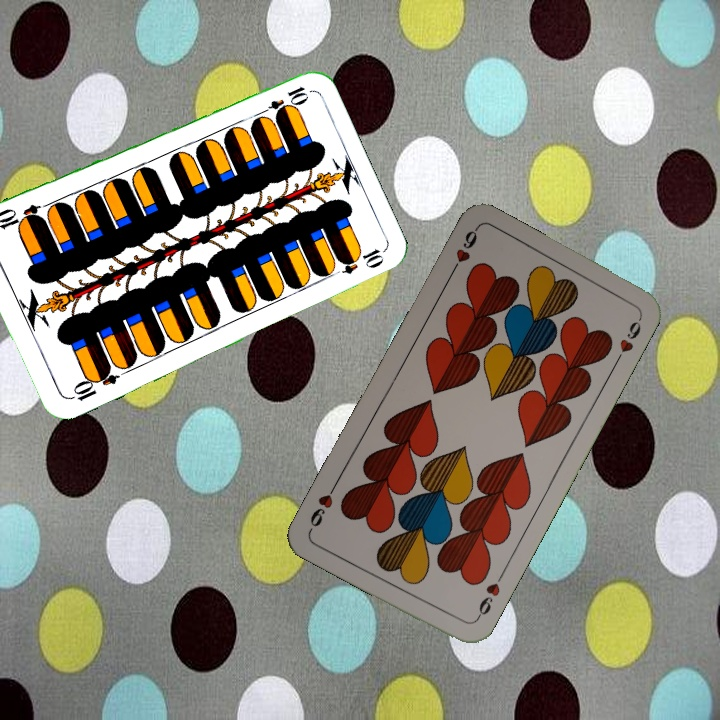E10: (65, 363, 121, 404), (254, 82, 310, 120)
H9: (445, 225, 480, 279), (472, 569, 506, 623)
